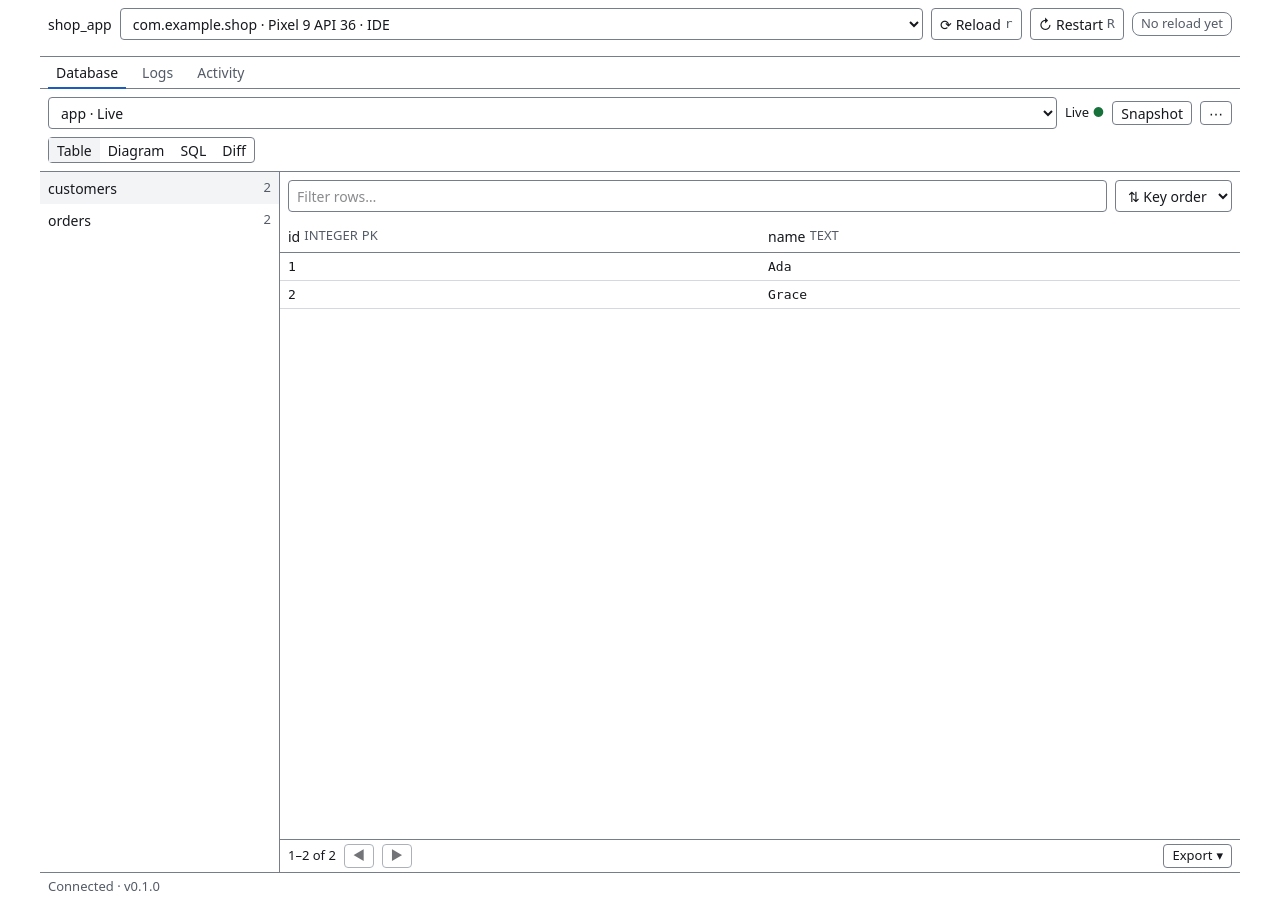
Test: Saved queries (⋯ menu) › Default: Run opens the SQL view and runs it through the gate; Rename and Delete save
Expected: the dropdown named "Database" is shown, [48,97,1057,129]
Click the button named "More database options".
click(1216, 113)  # box [1200,101,1232,125]
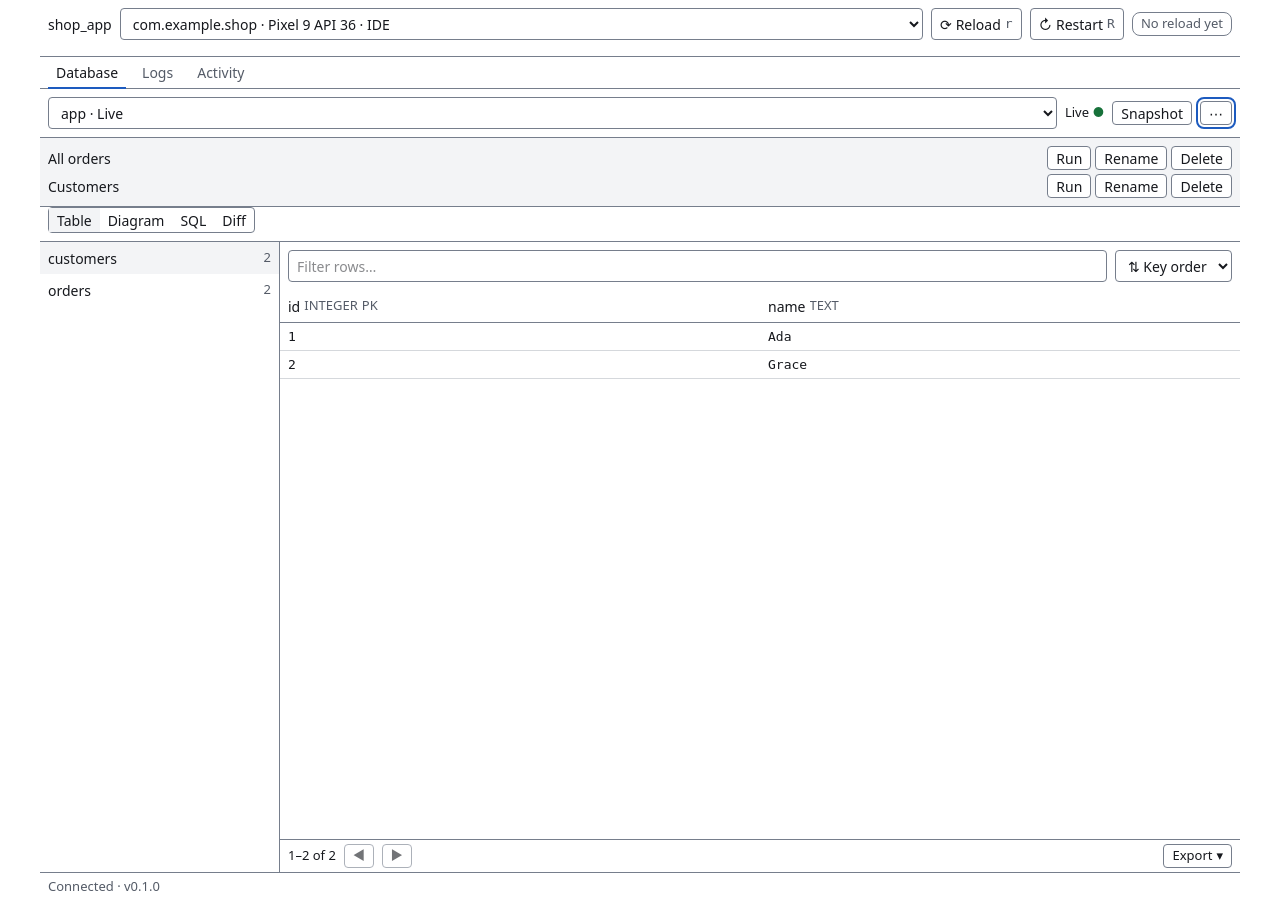
Click the button with aria-label "Rename saved query: Customers".
click(1131, 186)  # box [1095,174,1167,198]
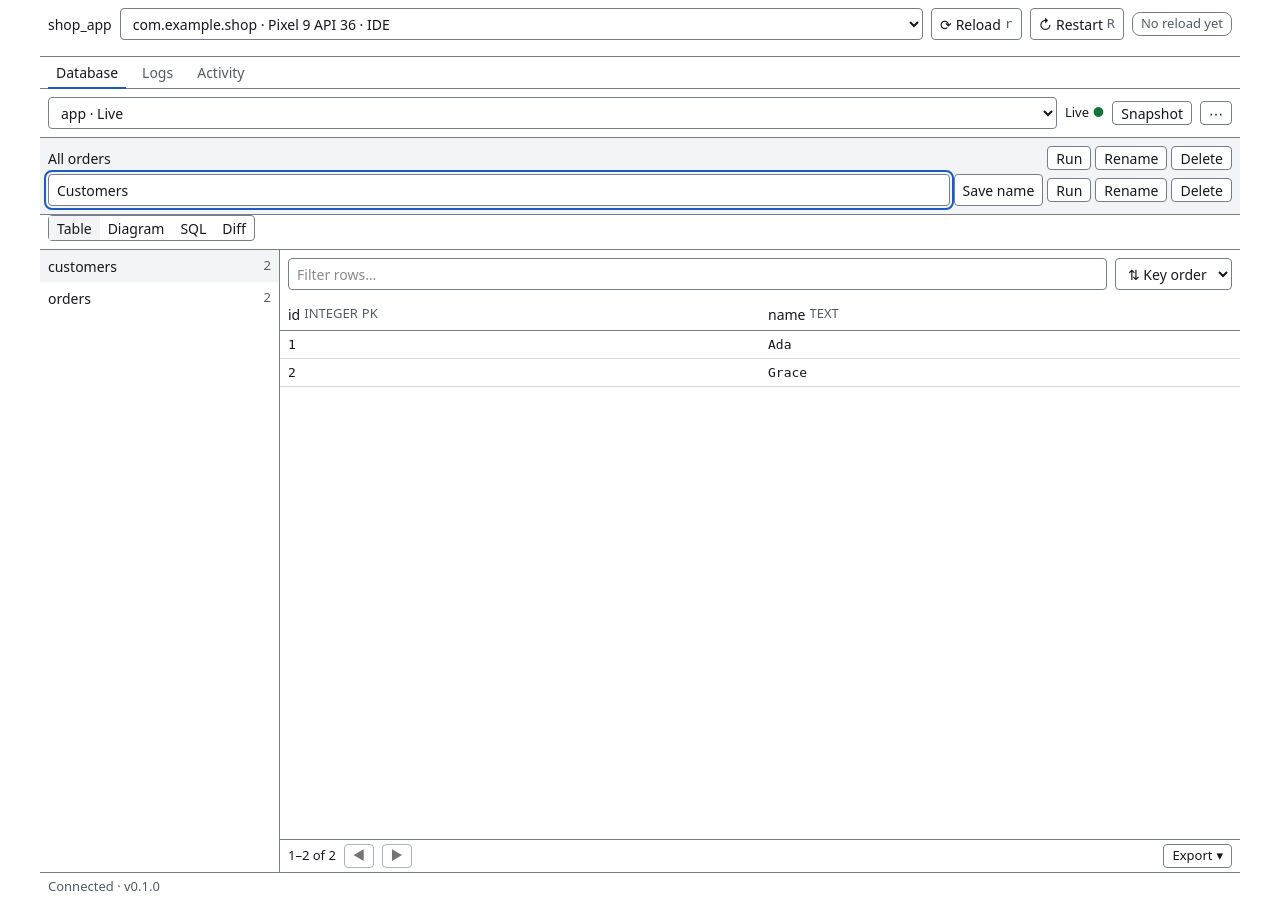
Replace the text in the field named "New name for Customers" with "People" at (499, 190), box [48,174,950,206]
Then press Enter
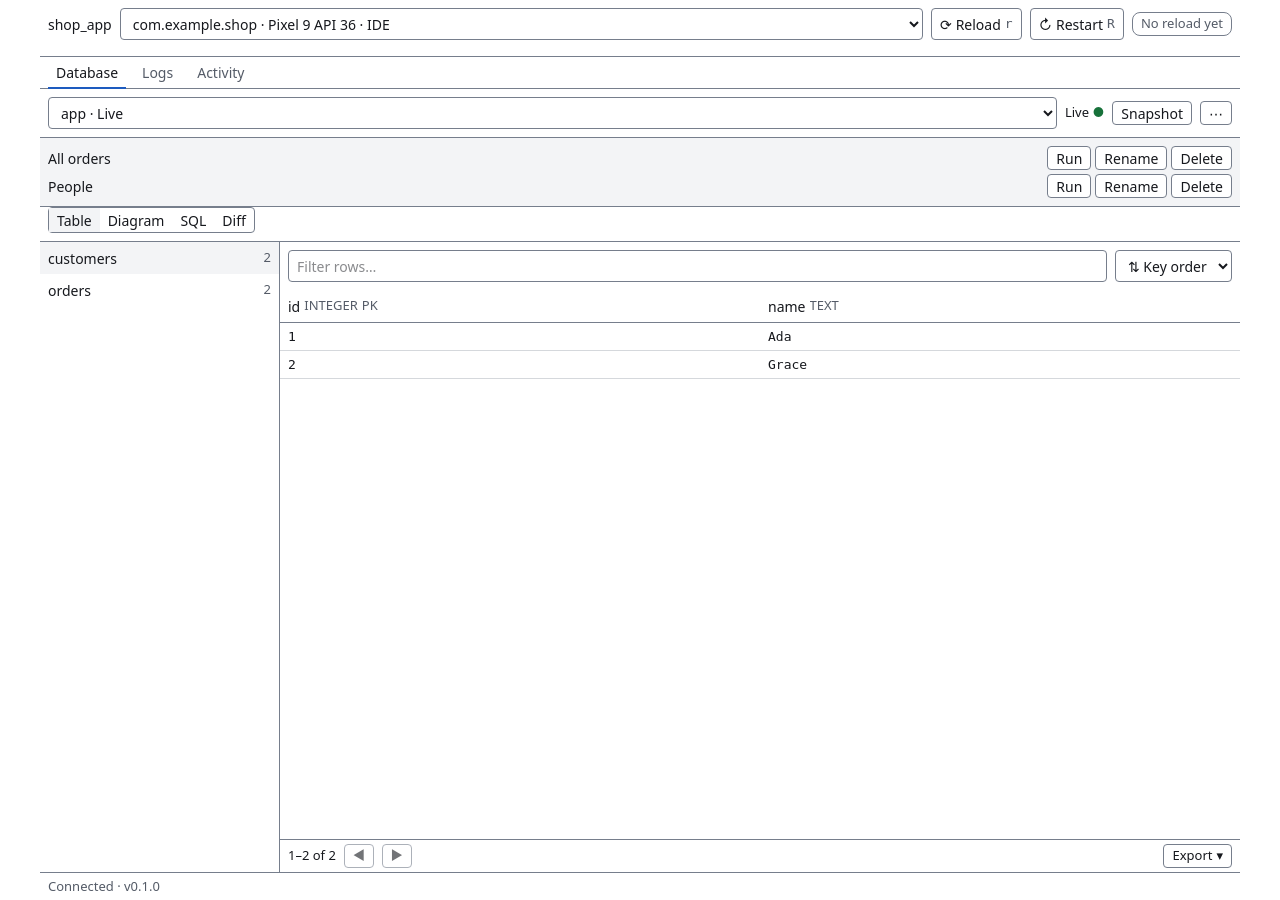
Click the button with aria-label "Delete saved query: People".
click(1202, 186)  # box [1171,174,1232,198]
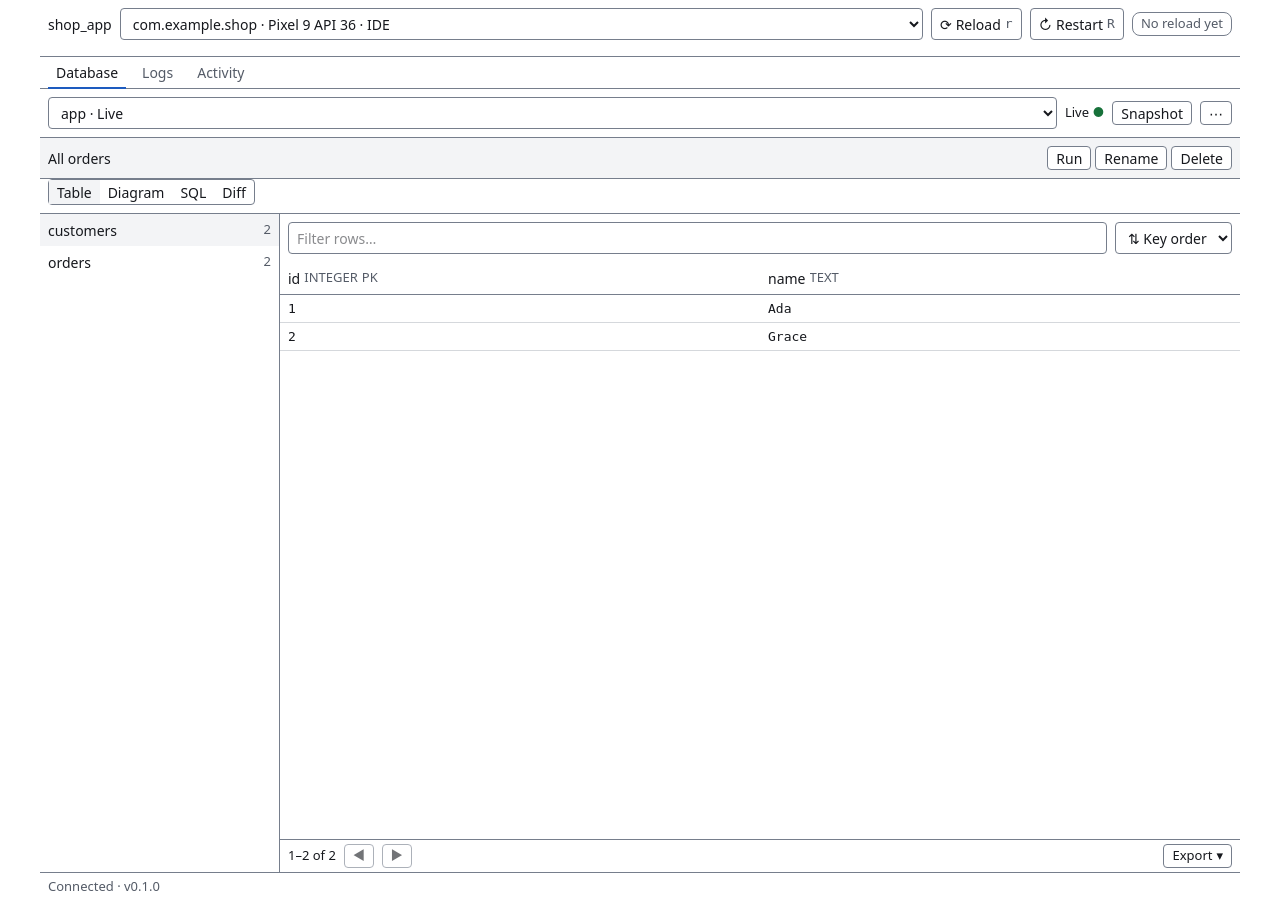
Click the button with aria-label "Run saved query: All orders".
click(1069, 158)  # box [1047,146,1091,170]
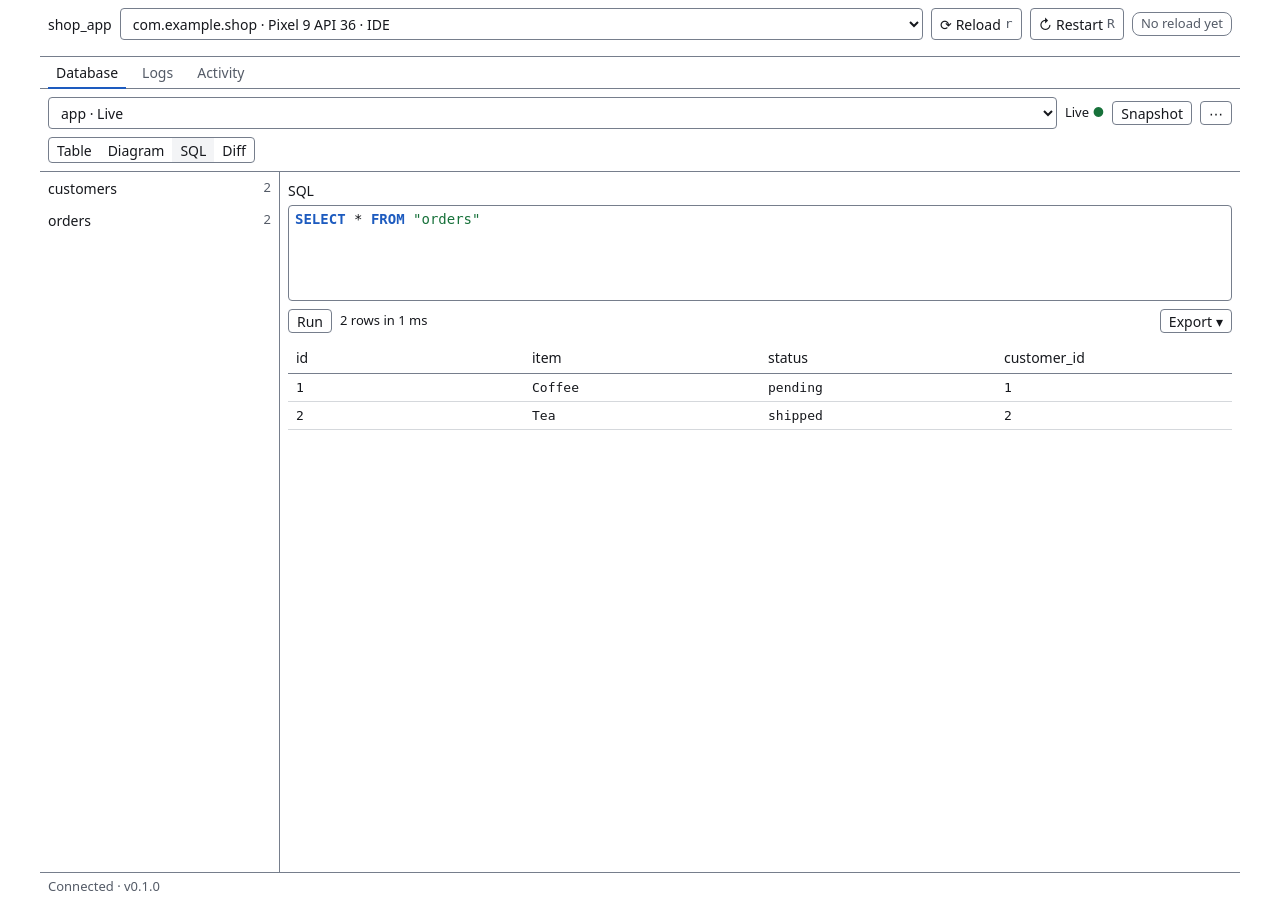
Expected: the text "2 rows in 1 ms" is shown, [340,311,427,331]
Expected: the table named "Query result" is shown, [288,341,1232,430]
